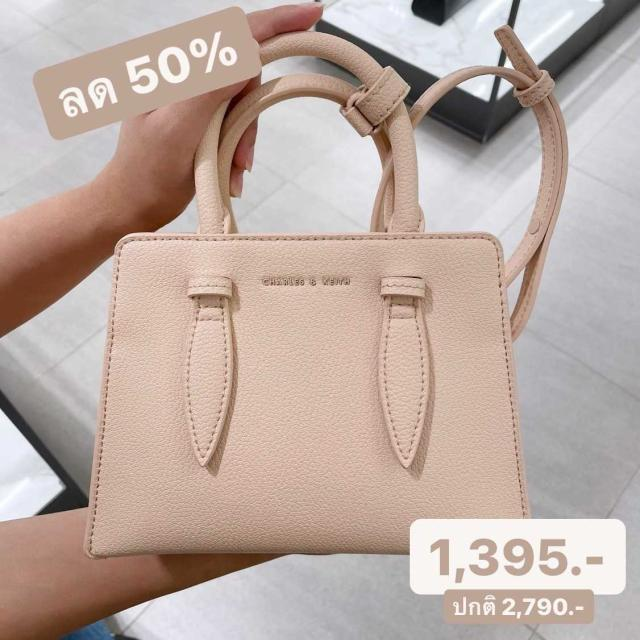Handbag: (87, 220, 540, 573)
